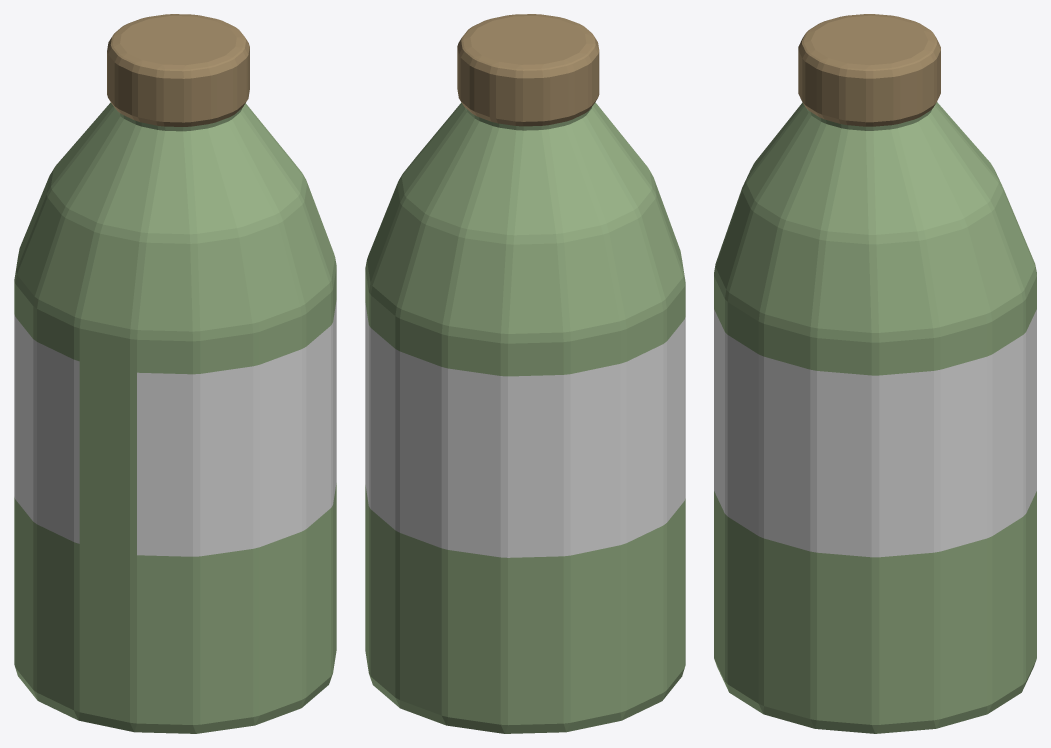
Rendered from liquiddetergent_washingmachine.fbx.
The picture shows the model from 3 angles, left to right: view 1: azimuth 30°, elevation 25°; view 2: azimuth 150°, elevation 25°; view 3: azimuth 270°, elevation 25°; orthographic projection.
Parts seen in each view (by area): view 1: Cylinder.005; view 2: Cylinder.005; view 3: Cylinder.005.
Boxes of the visible parts, x1=… form: Cylinder.005: x1=14, y1=14, x2=336, y2=733; Cylinder.005: x1=365, y1=14, x2=685, y2=733; Cylinder.005: x1=714, y1=14, x2=1036, y2=733.
Bounding box in the file's own units: 50.39 × 108 × 50.39.
